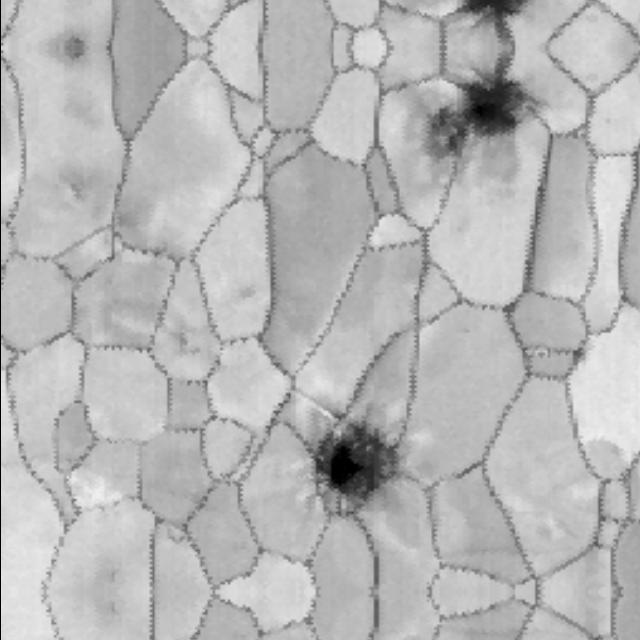good_void: (422, 49, 537, 171), (302, 417, 407, 515), (440, 0, 537, 49), (167, 319, 211, 362), (46, 49, 92, 70), (46, 28, 92, 49), (560, 341, 590, 369), (531, 344, 551, 369)
